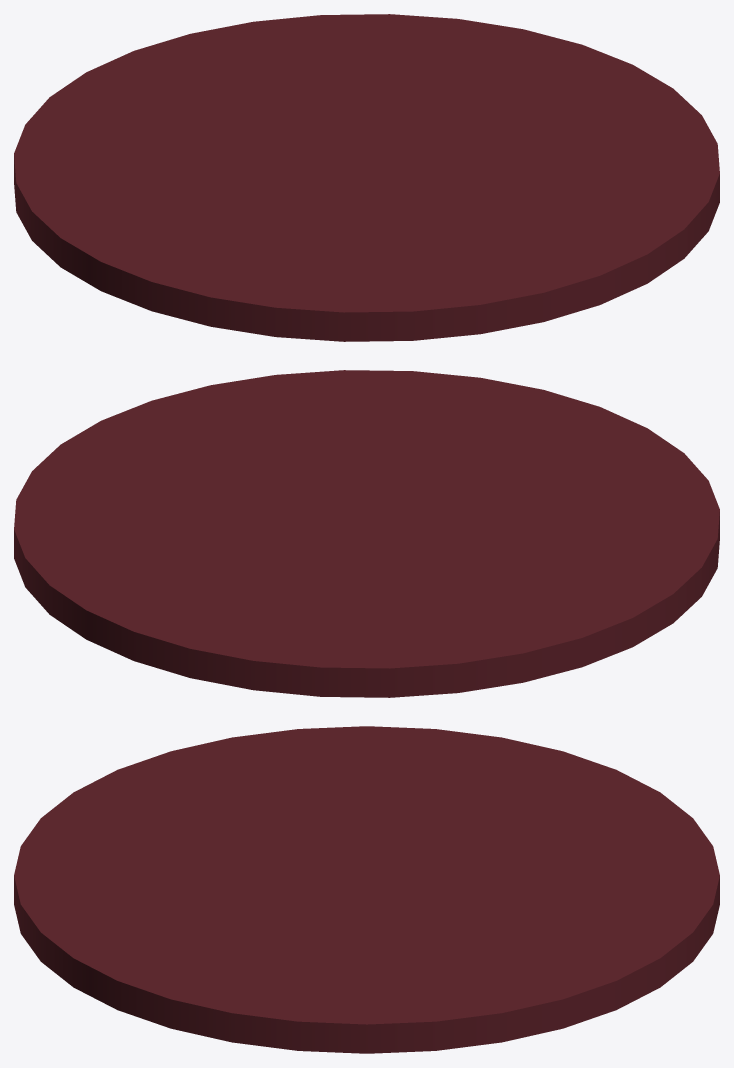
Rendered from MousePad.obj.
3 views of the same model, one above another, from view 1: azimuth 30°, elevation 25°; view 2: azimuth 150°, elevation 25°; view 3: azimuth 270°, elevation 25° (orthographic).
Visible parts, largest first — view 1: MousePad; view 2: MousePad; view 3: MousePad.
Part boxes in pixels (<box>): MousePad: <box>14,14,719,341</box>; MousePad: <box>14,370,719,697</box>; MousePad: <box>14,726,719,1053</box>.
Size of the model in its own units: 0.7087 by 0.0324 by 0.7087.
